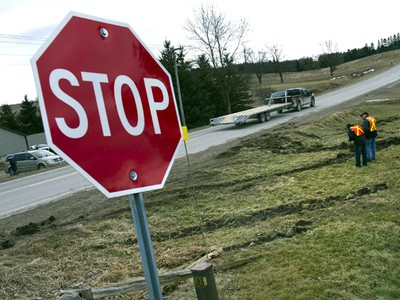stop: (37, 25, 176, 190)
